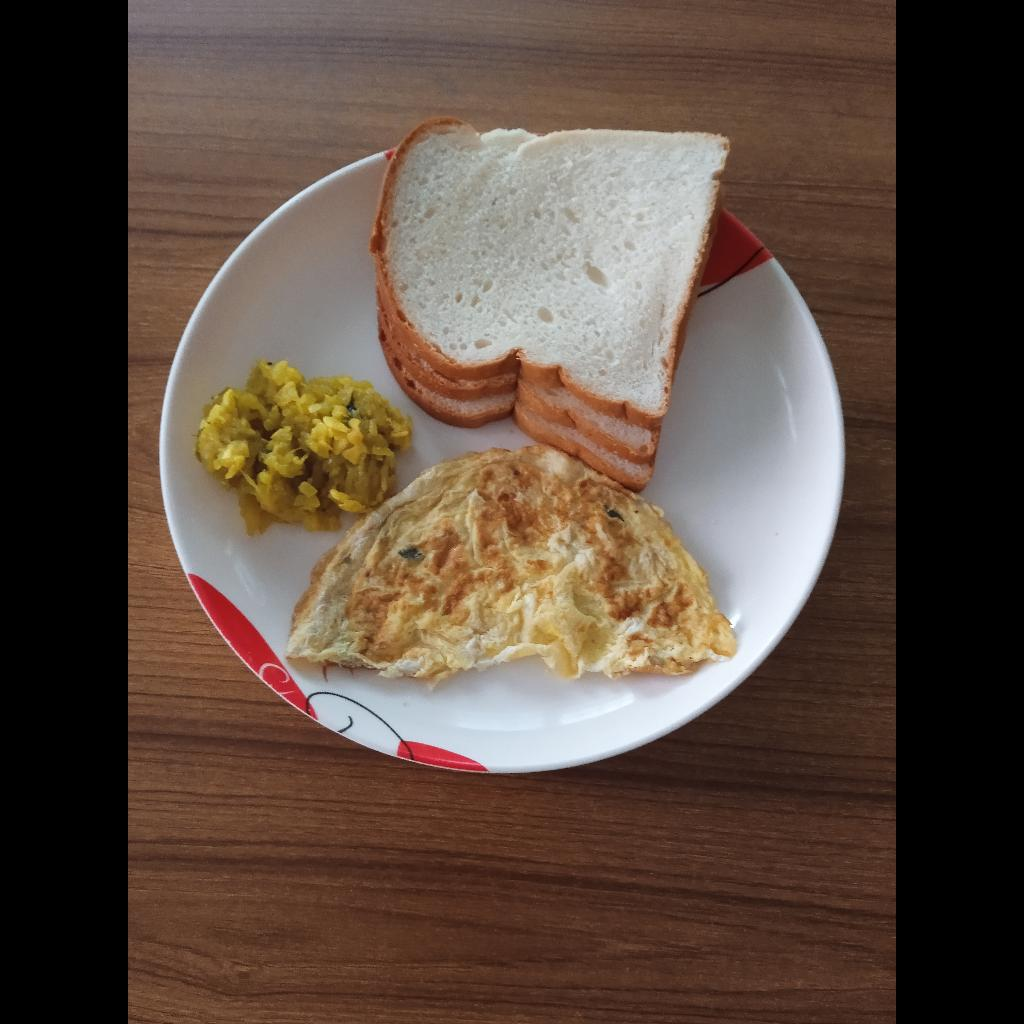bread: (372, 116, 730, 489)
cabbage: (193, 359, 412, 536)
egg-poached: (287, 445, 738, 681)
